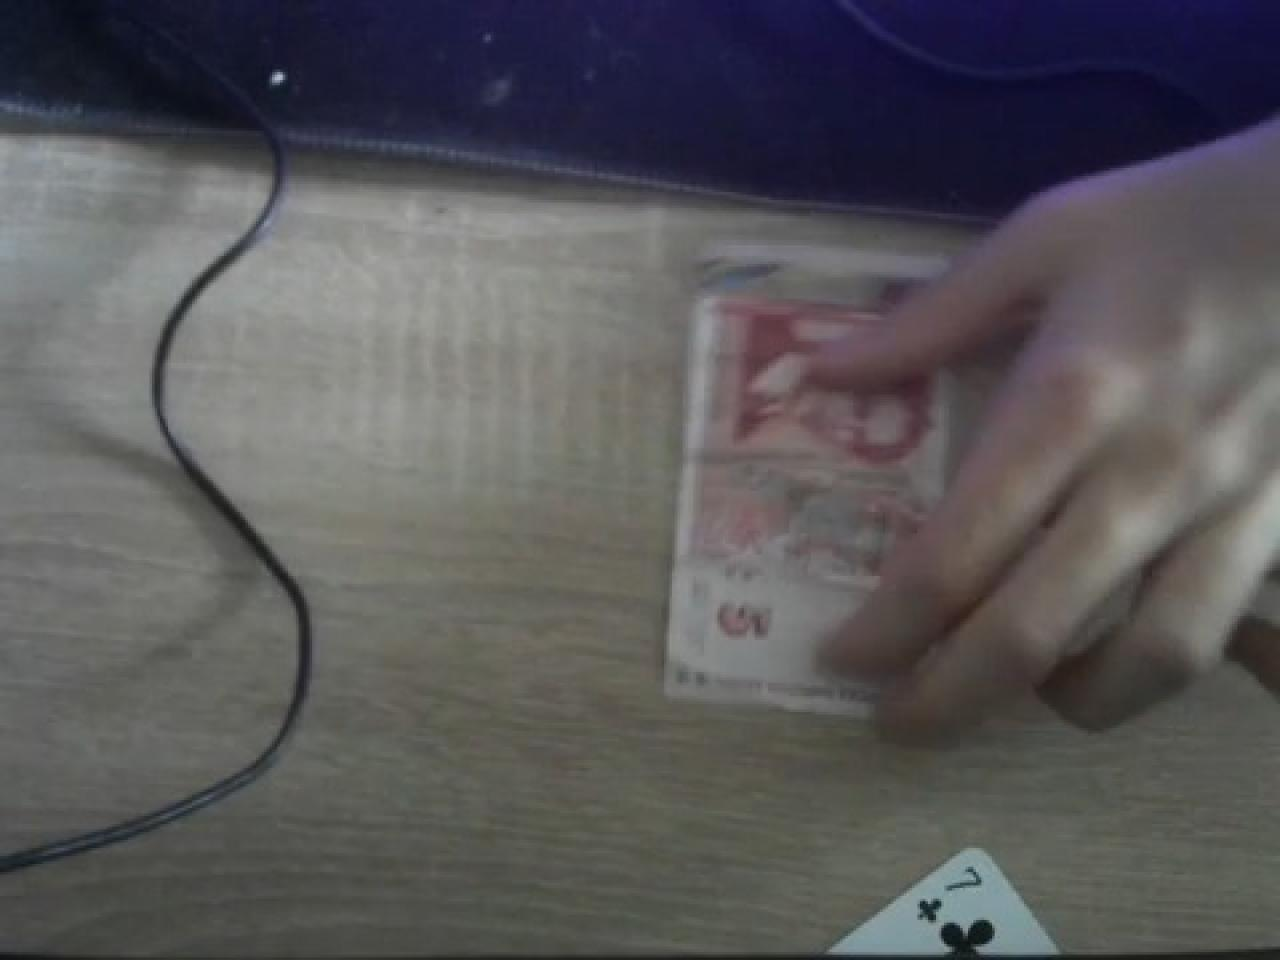5leva: (664, 296, 941, 704)
